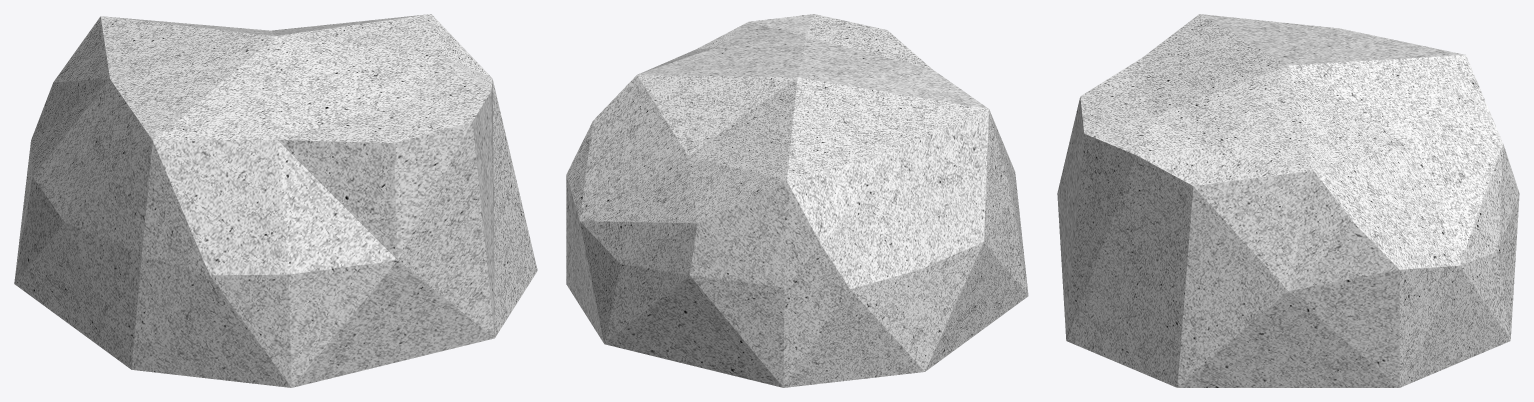
File: rock_1.fbx
3 renders of one model, left to right at view 1: azimuth 30°, elevation 25°; view 2: azimuth 150°, elevation 25°; view 3: azimuth 270°, elevation 25°, orthographic. The views are drawn at different scales.
Parts seen in each view (by area): view 1: Mazee.043; view 2: Mazee.043; view 3: Mazee.043.
Part boxes in pixels (x1=…): Mazee.043: x1=14, y1=14, x2=537, y2=387; Mazee.043: x1=566, y1=14, x2=1028, y2=387; Mazee.043: x1=1057, y1=14, x2=1519, y2=387.
Bounding box in the file's own units: 104 × 56.75 × 104.
